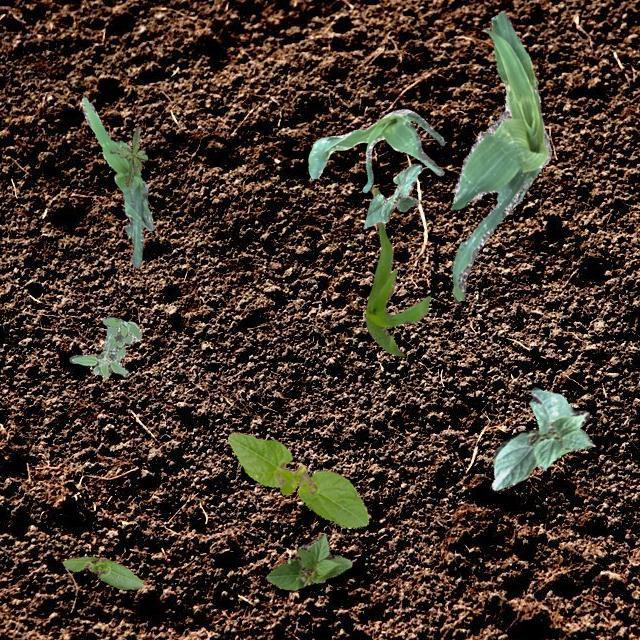crop: (450, 11, 550, 302), (226, 431, 368, 526), (80, 96, 152, 266), (307, 108, 443, 192), (364, 186, 430, 354), (491, 386, 594, 489), (266, 532, 350, 590), (362, 164, 422, 228), (61, 556, 142, 588)
weed: (68, 316, 140, 378), (108, 126, 146, 186)
